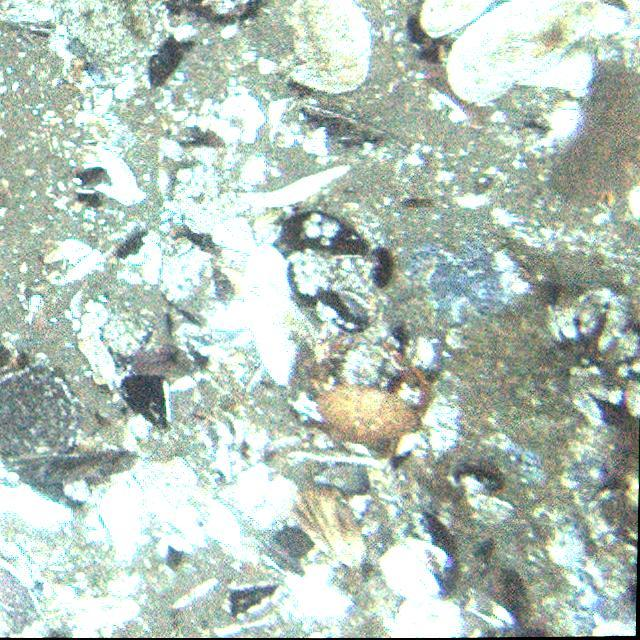crab: (308, 338, 430, 454)
